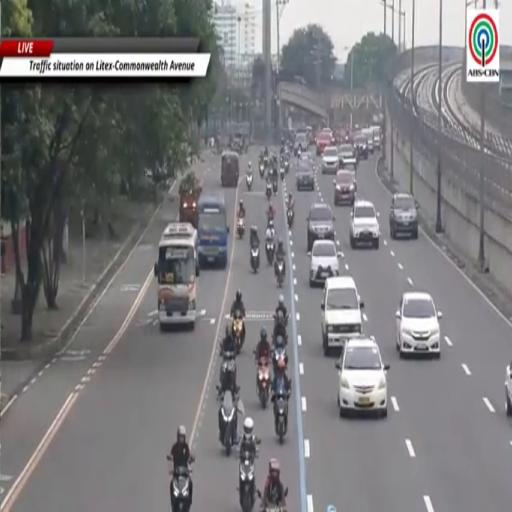bus: (155, 222, 199, 329), (198, 192, 229, 267)
car: (336, 335, 389, 418), (321, 276, 363, 356), (396, 292, 442, 358), (350, 200, 380, 249), (309, 240, 339, 286), (307, 203, 335, 251), (390, 192, 418, 238), (333, 170, 356, 205), (339, 144, 357, 170), (322, 147, 339, 174), (297, 163, 314, 190), (316, 132, 331, 156), (354, 134, 368, 159), (505, 363, 511, 417), (294, 133, 308, 155), (363, 128, 374, 153), (299, 152, 314, 169), (372, 126, 381, 150)
motorcycle: (221, 391, 236, 456), (239, 453, 255, 511), (171, 468, 191, 511), (274, 390, 288, 443), (257, 358, 271, 408), (232, 311, 244, 355), (221, 351, 236, 382), (273, 344, 287, 373), (276, 260, 284, 287), (251, 247, 259, 273), (266, 240, 274, 265), (261, 504, 287, 511), (237, 217, 244, 238), (265, 182, 272, 200), (287, 208, 293, 228), (246, 174, 253, 191), (272, 180, 278, 196), (259, 163, 264, 179), (280, 167, 285, 181), (285, 159, 290, 173)
truck: (179, 172, 202, 228)
